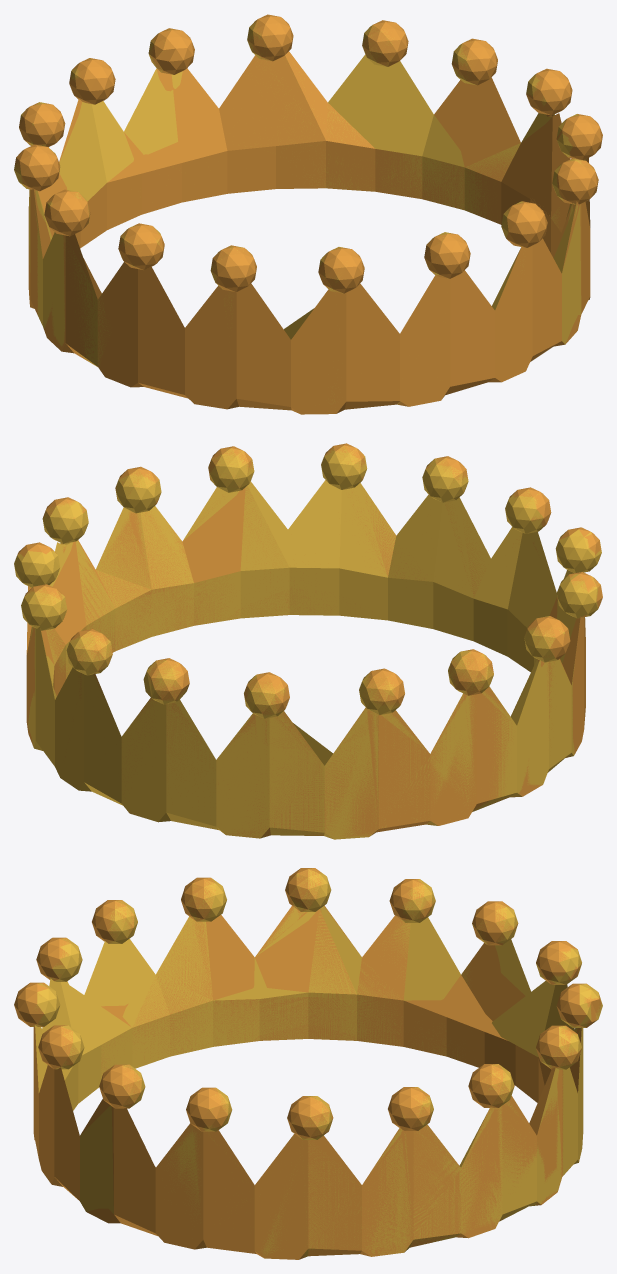
File: taç.fbx
The picture shows the model from 3 angles, top to bottom: view 1: azimuth 30°, elevation 25°; view 2: azimuth 150°, elevation 25°; view 3: azimuth 270°, elevation 25°; orthographic projection. The views are drawn at different scales.
Parts seen in each view (by area): view 1: Icosphere.003, Cylinder; view 2: Cylinder, Icosphere.003; view 3: Icosphere.003, Cylinder.
Boxes of the visible parts, box(x1,y1,x2,y2) form: Icosphere.003: box(14, 14, 602, 414); Cylinder: box(14, 20, 594, 406); Cylinder: box(14, 445, 601, 839); Icosphere.003: box(17, 443, 602, 838); Icosphere.003: box(14, 868, 601, 1259); Cylinder: box(31, 868, 602, 1258).
Size of the model in its own units: 50.01 by 15.2 by 50.06.
